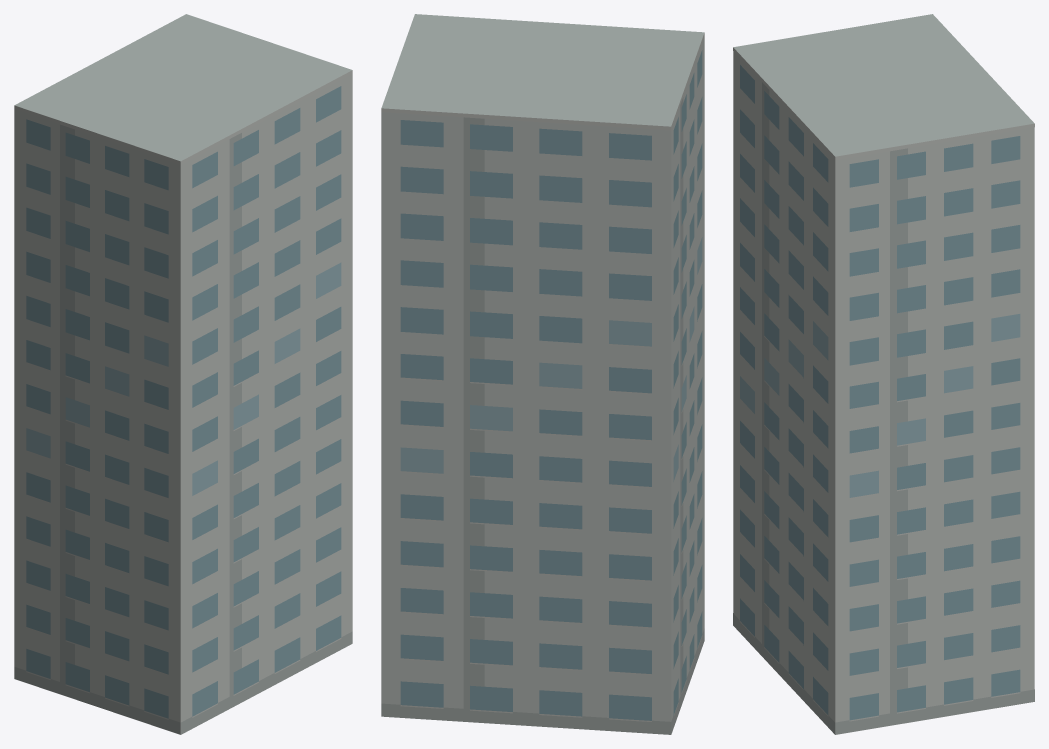
The model's file is residential-20059c51-4c4e-443a-9a6b-e51494e9975b.glb.
3 renders of one model, left to right at view 1: azimuth 30°, elevation 25°; view 2: azimuth 150°, elevation 25°; view 3: azimuth 270°, elevation 25°, orthographic. The views are drawn at different scales.
Parts seen in each view (by area): view 1: residential-20059c51-4c4e-443a-9a6b-e51494e9975b.tmp; view 2: residential-20059c51-4c4e-443a-9a6b-e51494e9975b.tmp; view 3: residential-20059c51-4c4e-443a-9a6b-e51494e9975b.tmp.
Boxes of the visible parts, box(x1,y1,x2,y2) form: residential-20059c51-4c4e-443a-9a6b-e51494e9975b.tmp: box(14, 14, 352, 734); residential-20059c51-4c4e-443a-9a6b-e51494e9975b.tmp: box(381, 14, 704, 734); residential-20059c51-4c4e-443a-9a6b-e51494e9975b.tmp: box(733, 14, 1034, 734).
Size of the model in its own units: 20.12 by 38 by 17.98.
